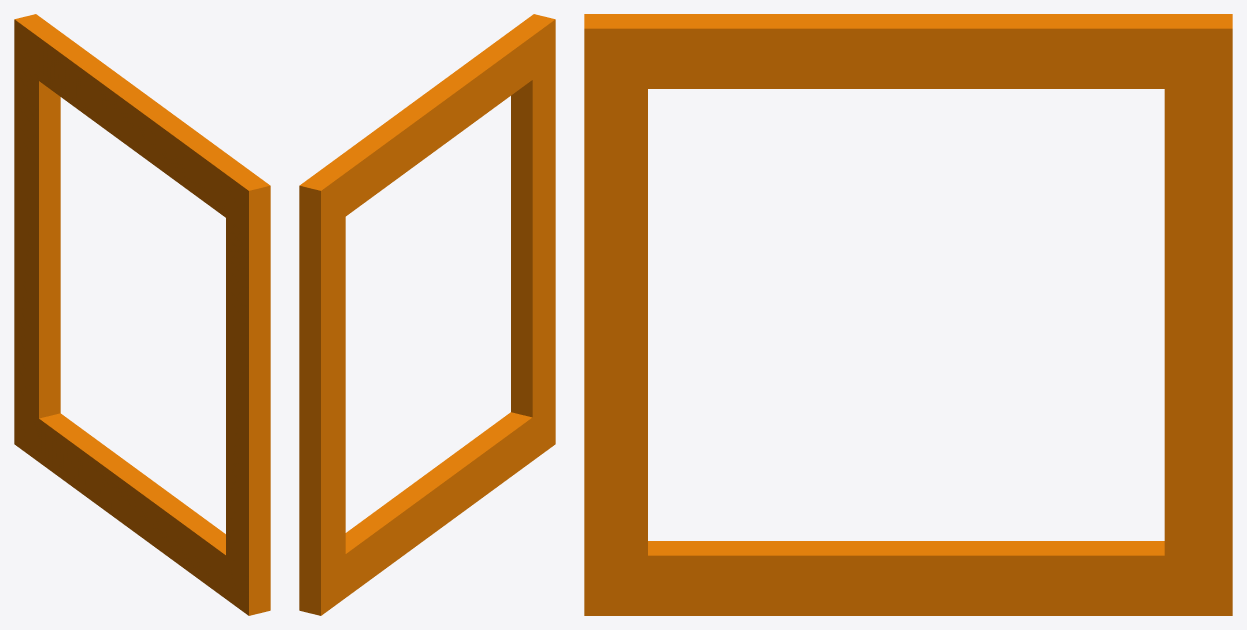
The model's file is window.fbx.
The picture shows the model from 3 angles, left to right: view 1: azimuth 30°, elevation 25°; view 2: azimuth 150°, elevation 25°; view 3: azimuth 270°, elevation 25°; orthographic projection. The views are drawn at different scales.
Parts seen in each view (by area): view 1: Cube; view 2: Cube; view 3: Cube.
Boxes of the visible parts, box(x1,y1,x2,y2) form: Cube: box(14, 14, 270, 615); Cube: box(299, 14, 555, 615); Cube: box(584, 14, 1232, 615).
Bounding box in the file's own units: 10.66 × 200 × 200.
